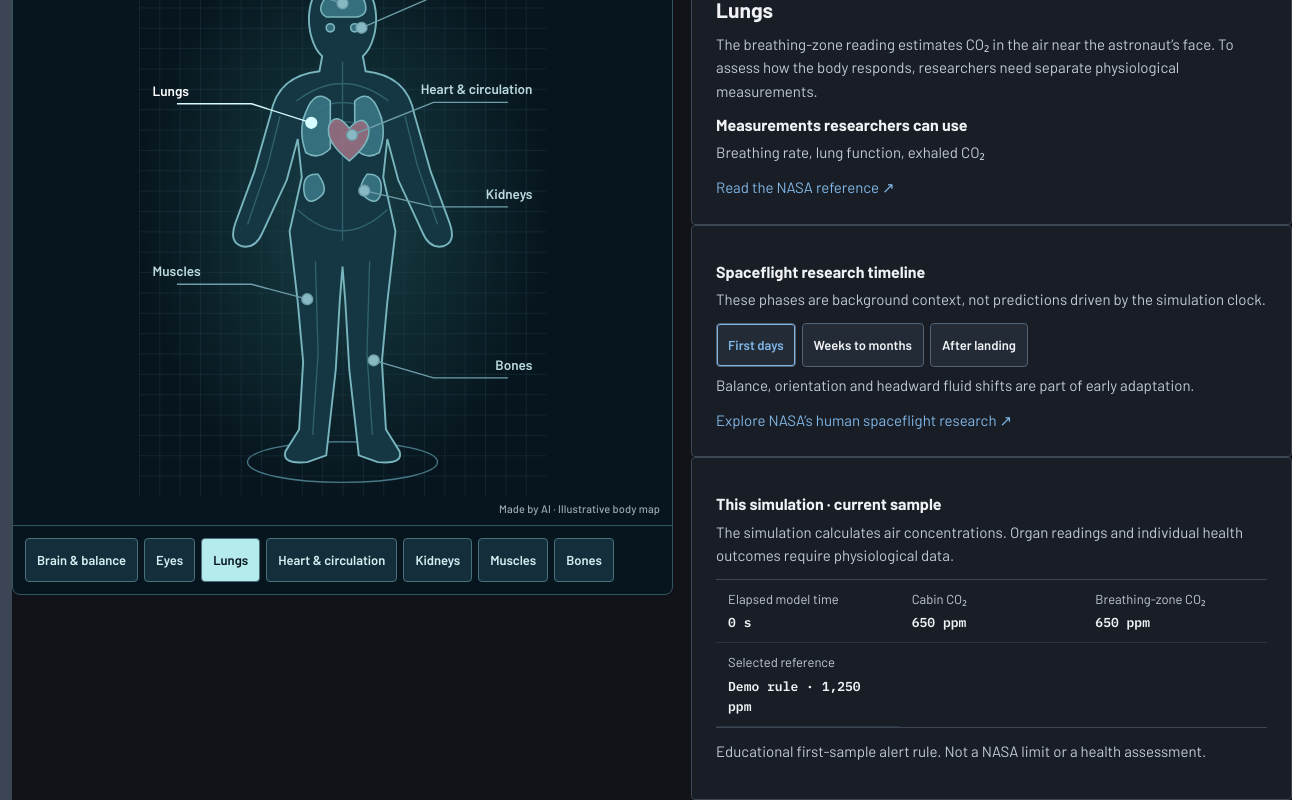
Test: lets users explore body systems and research phases without changing the simulation
The width and height of the screenshot is (1292, 800).
(page scrolled)
Click the button "Bones": [584, 560] box top-left (554, 538), bottom-right (614, 582)
(page scrolled)
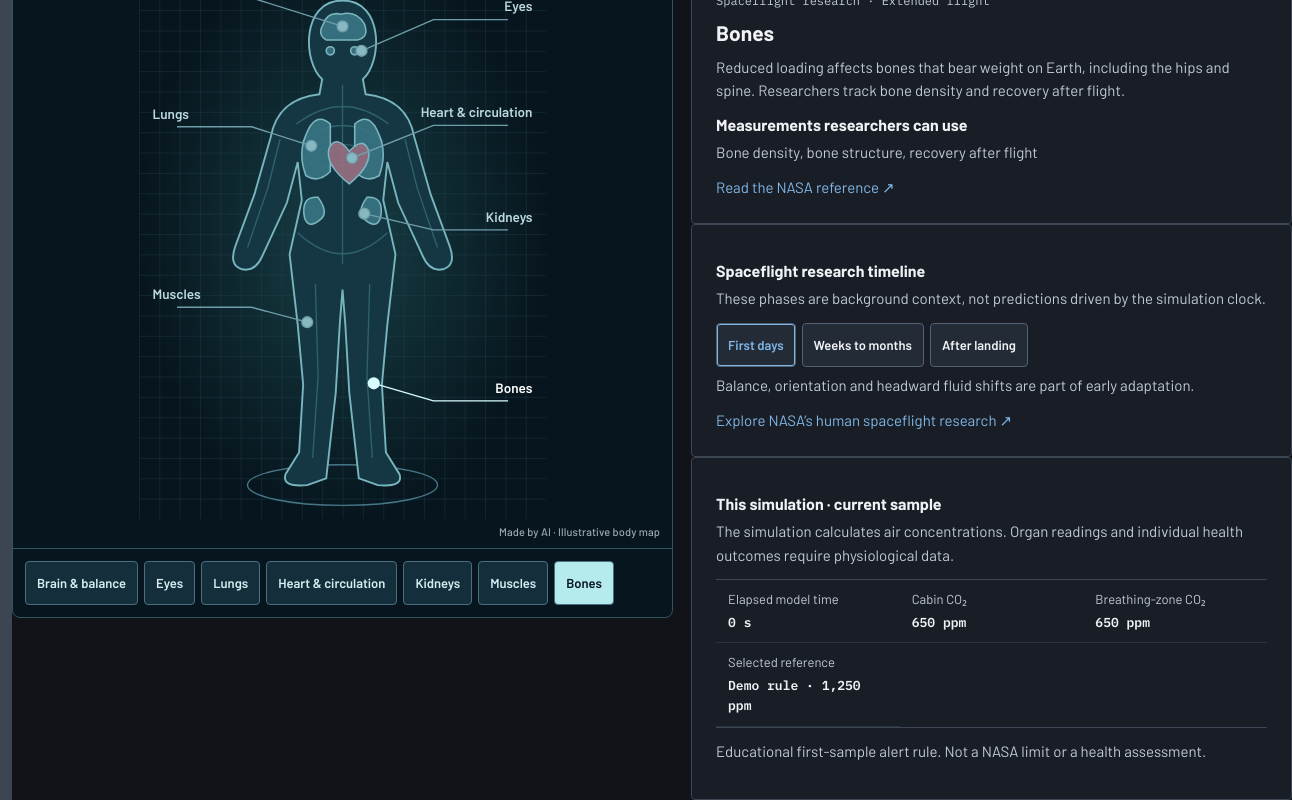
Now the heading "Bones" is shown, box top-left (716, 20), bottom-right (774, 45)
Click the button "After landing": [979, 345] box top-left (930, 323), bottom-right (1028, 367)
(page scrolled)
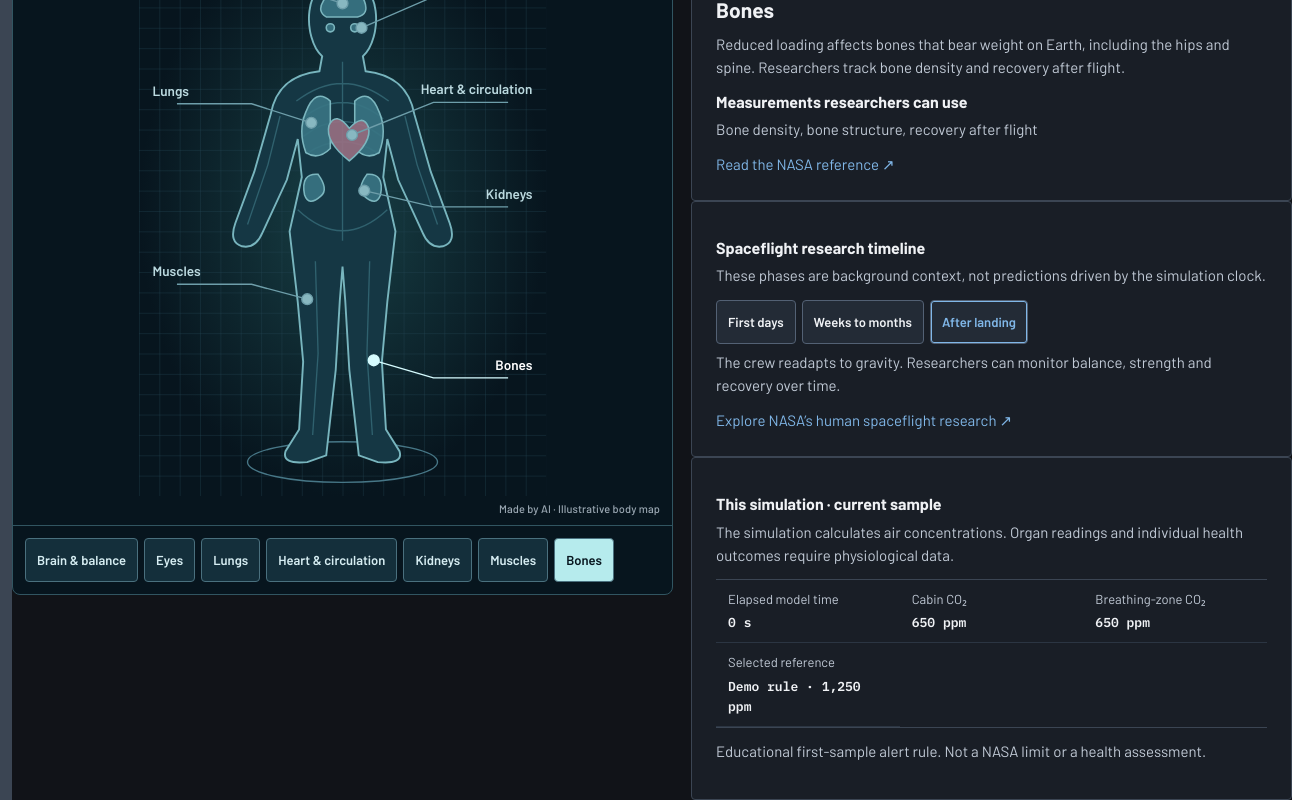
Now the text "The crew readapts to gravity" is shown, box top-left (716, 353), bottom-right (1212, 394)
